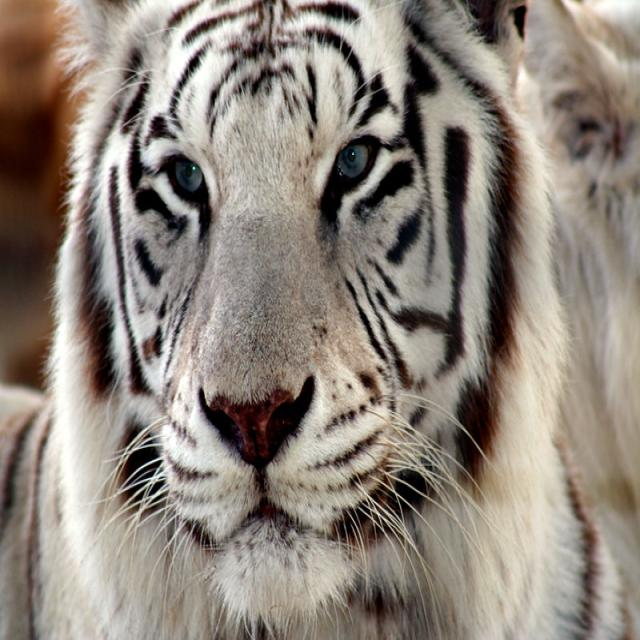Tiger: (46, 0, 585, 635)
